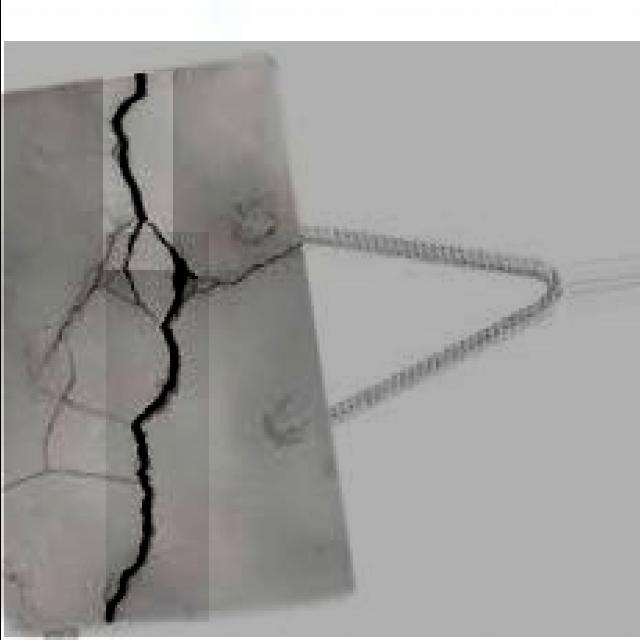Damage-bag: (5, 72, 302, 621), (261, 391, 309, 445)
